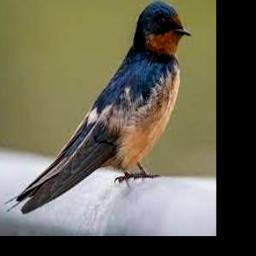Swallow: (5, 0, 190, 214)
